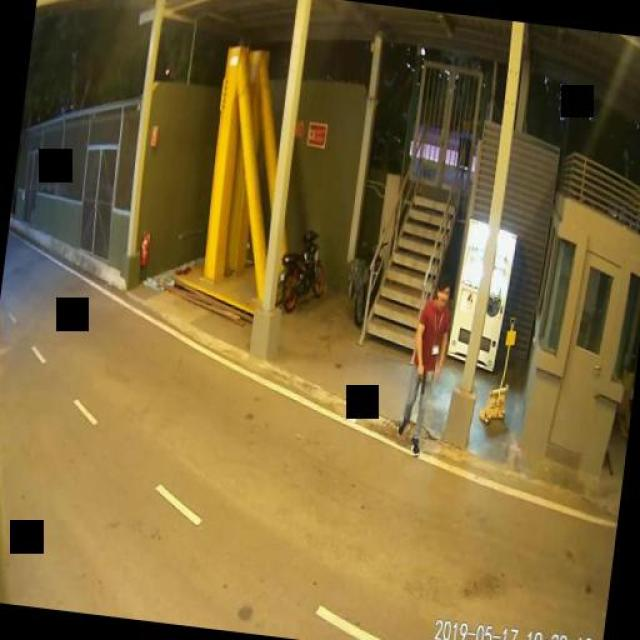gun: (413, 362, 428, 392)
